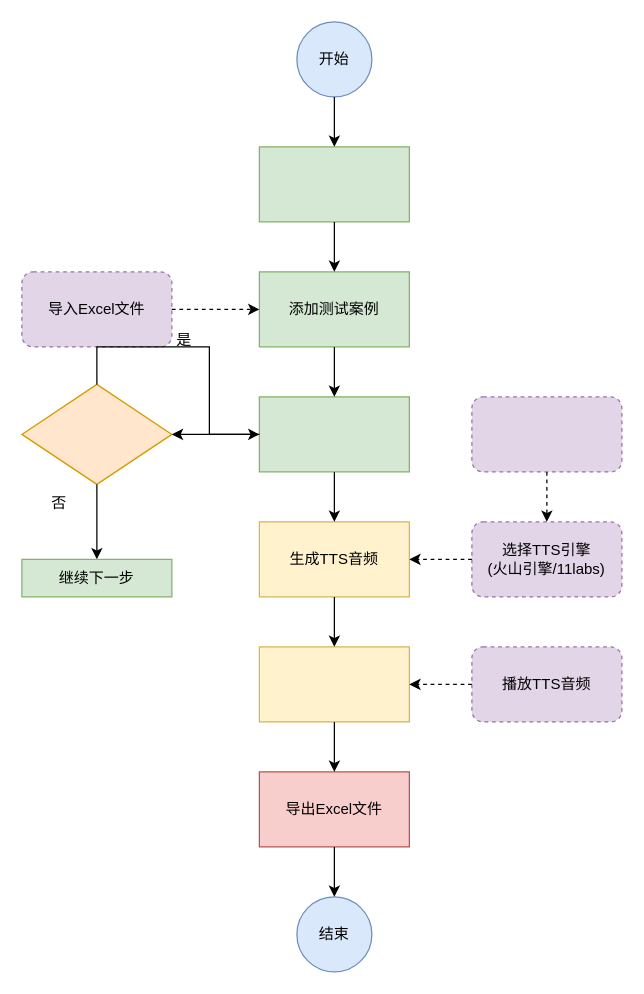
The diagram is 644 pixels wide and 994 high, and some of its shapes have lost their labels. The centre of each missing label's shape, as x and y in pixels:
创建测试任务: point 333,184
是否需要 更多对话: point 96,433
添加对话行: point 333,434
管理TTS设置 (API密钥配置): point 546,434
评估预期符合度: point 333,684
